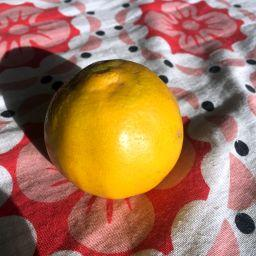Ripe: (45, 63, 185, 196)
